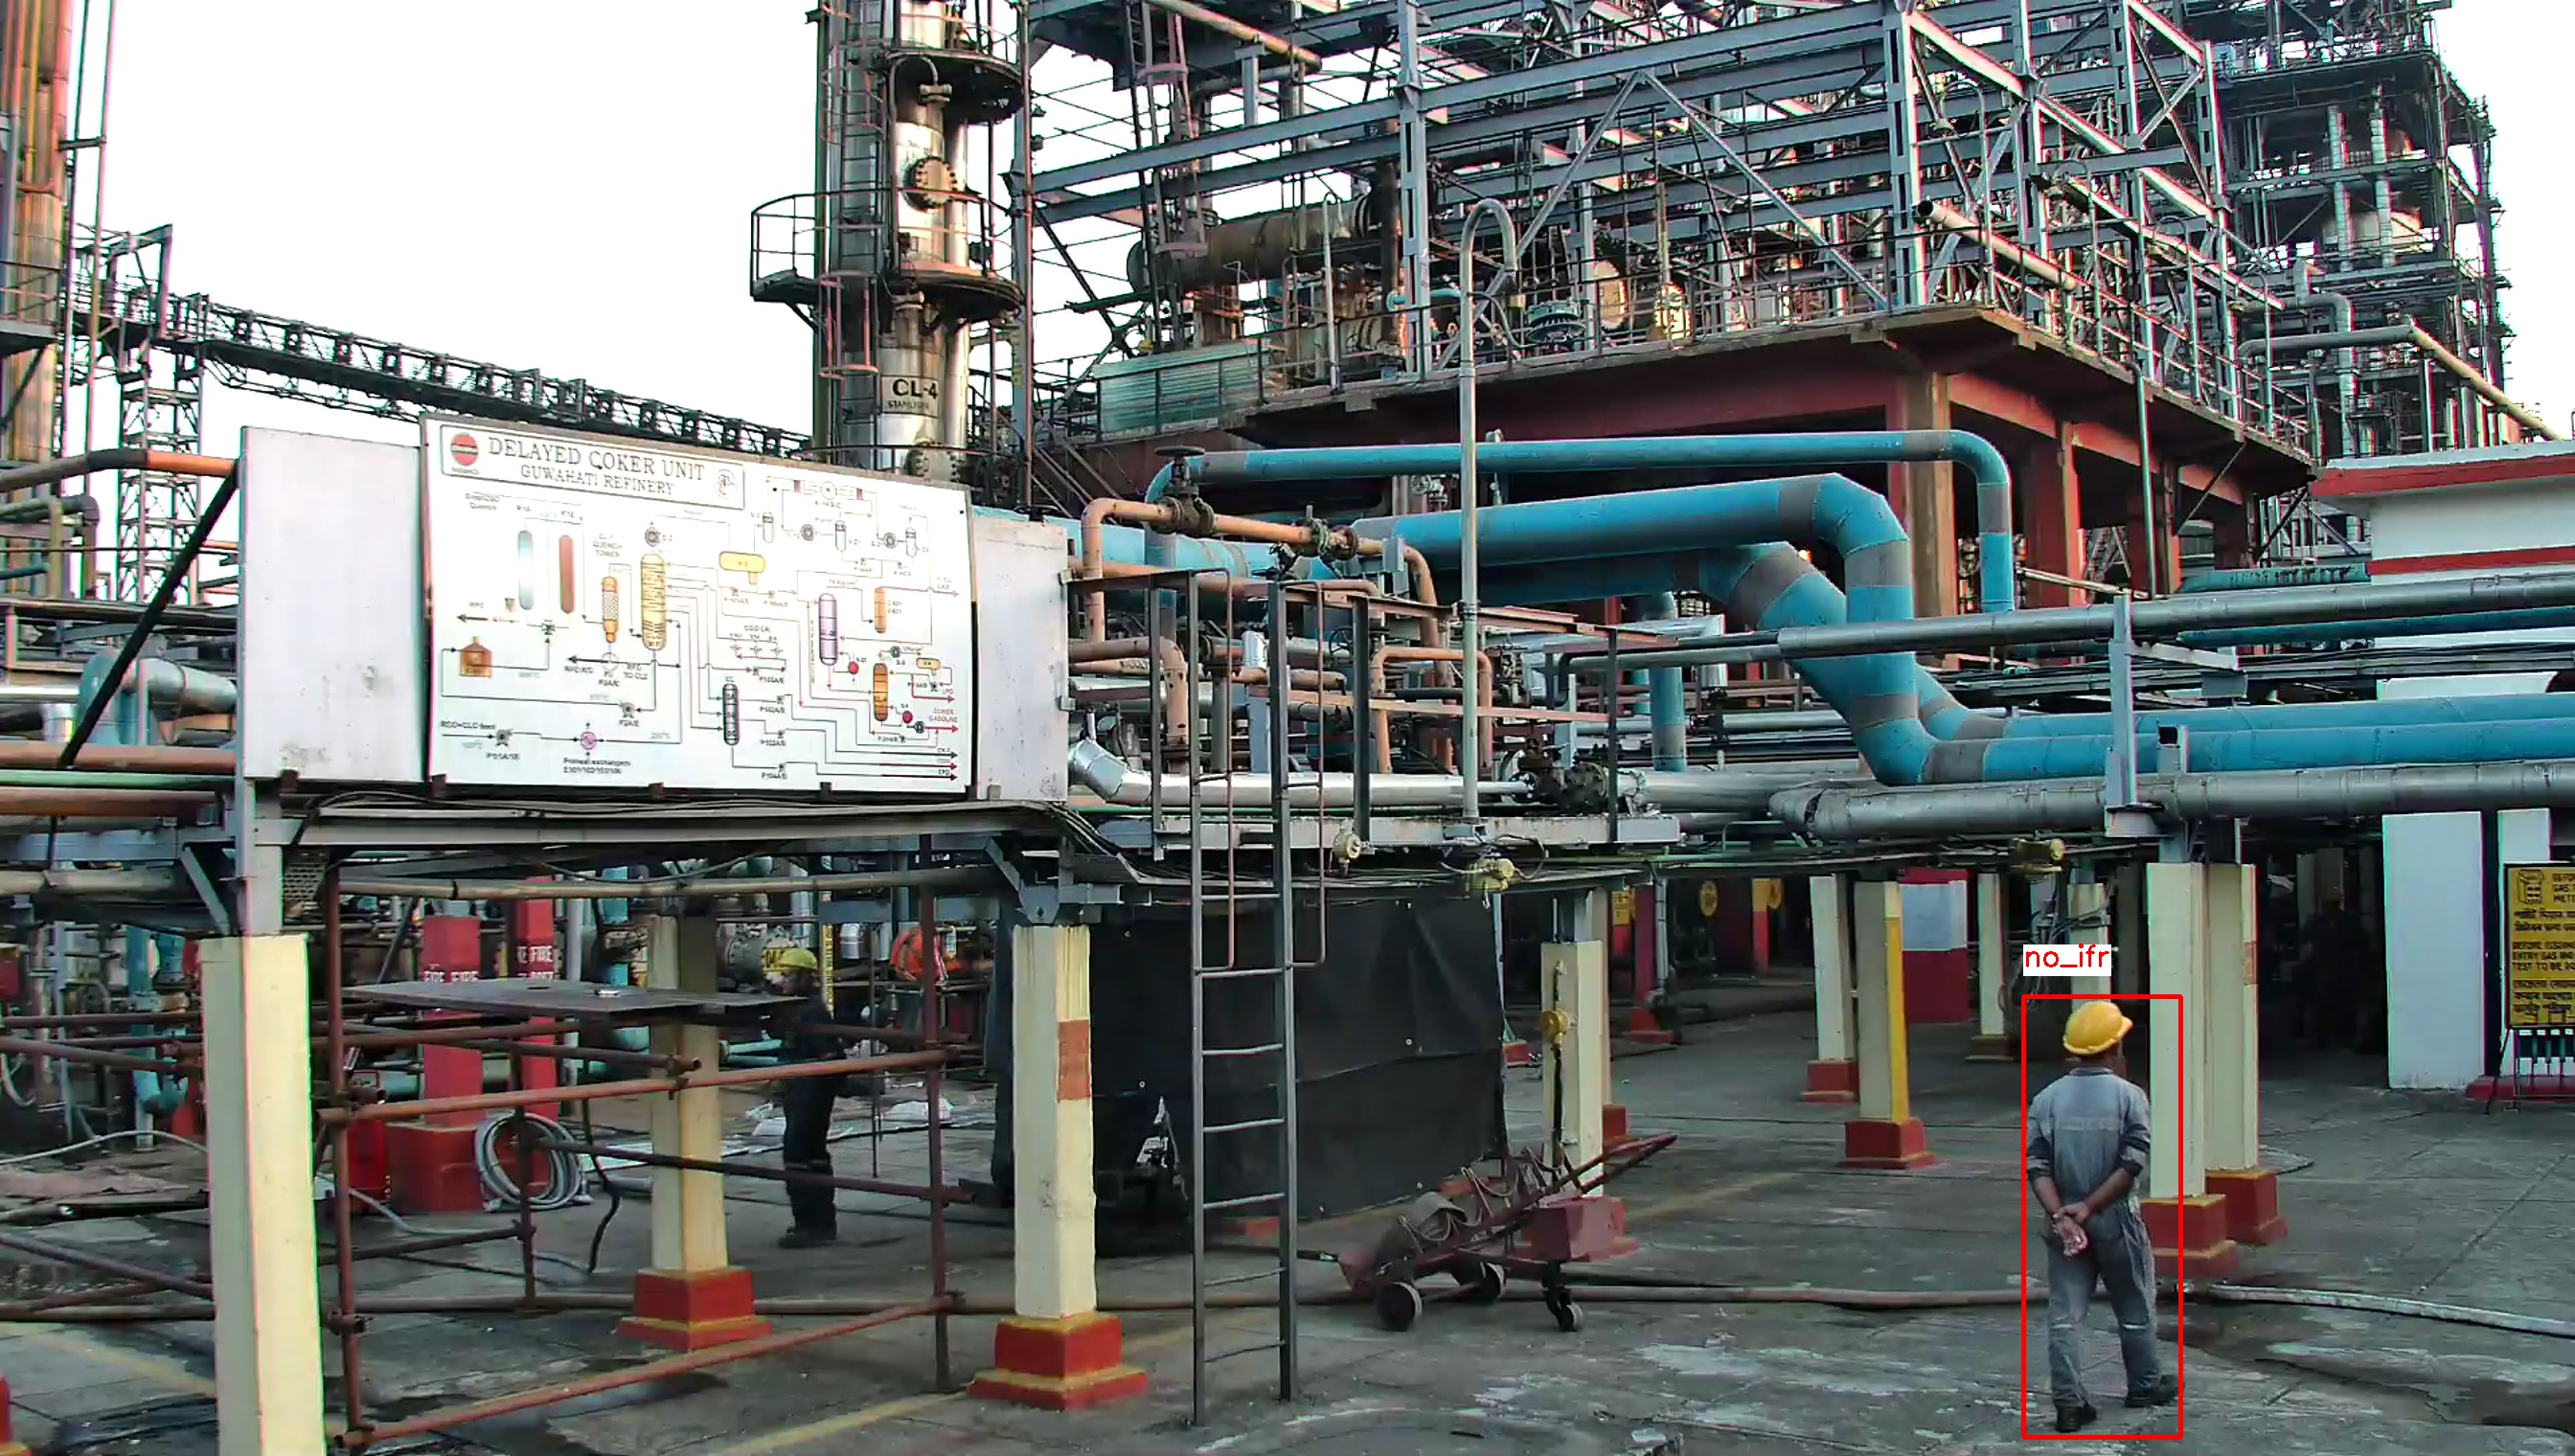Helmets: (2059, 998, 2133, 1058)
IFR_Suit: (2052, 1394, 2101, 1431)
